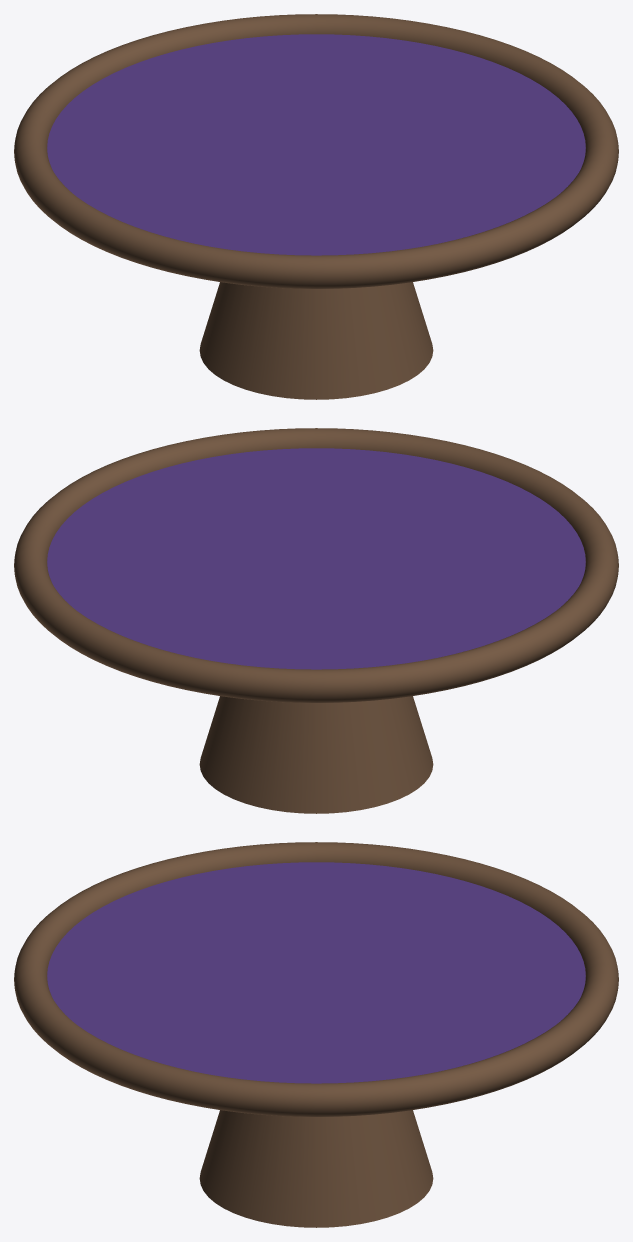
File: table.glb
3 renders of one model, top to bottom at view 1: azimuth 30°, elevation 25°; view 2: azimuth 150°, elevation 25°; view 3: azimuth 270°, elevation 25°, orthographic.
Visible parts, largest first — view 1: TableTop, TableRim, TableBase; view 2: TableTop, TableRim, TableBase; view 3: TableTop, TableRim, TableBase.
Boxes of the visible parts, x1,y1,x2,y2 form: TableTop: (47,34,585,255); TableRim: (14,14,618,288); TableBase: (199,282,433,399); TableTop: (47,448,585,669); TableRim: (14,428,618,702); TableBase: (199,696,433,813); TableTop: (47,862,585,1083); TableRim: (14,842,618,1116); TableBase: (199,1110,433,1227).
Size of the model in its own units: 4.66 by 1.82 by 4.66.
